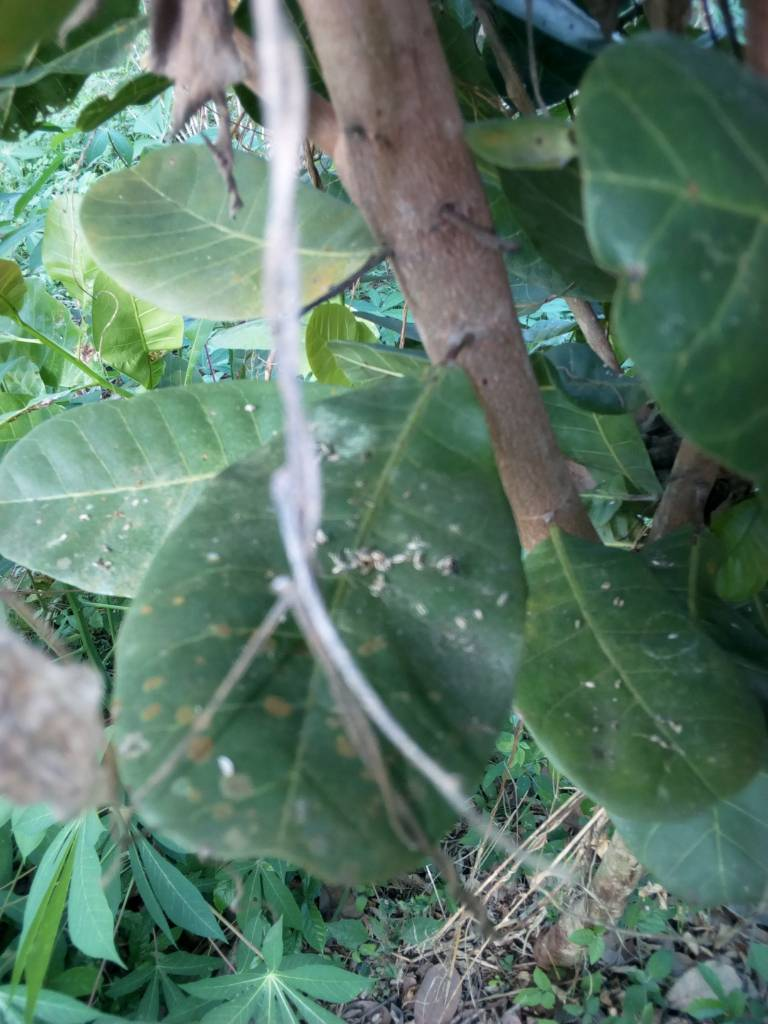Rouille: (100, 358, 543, 897)
